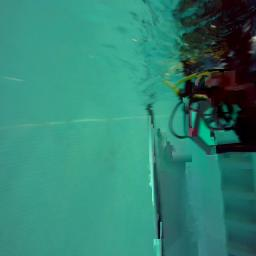Full: (184, 62, 255, 154)
